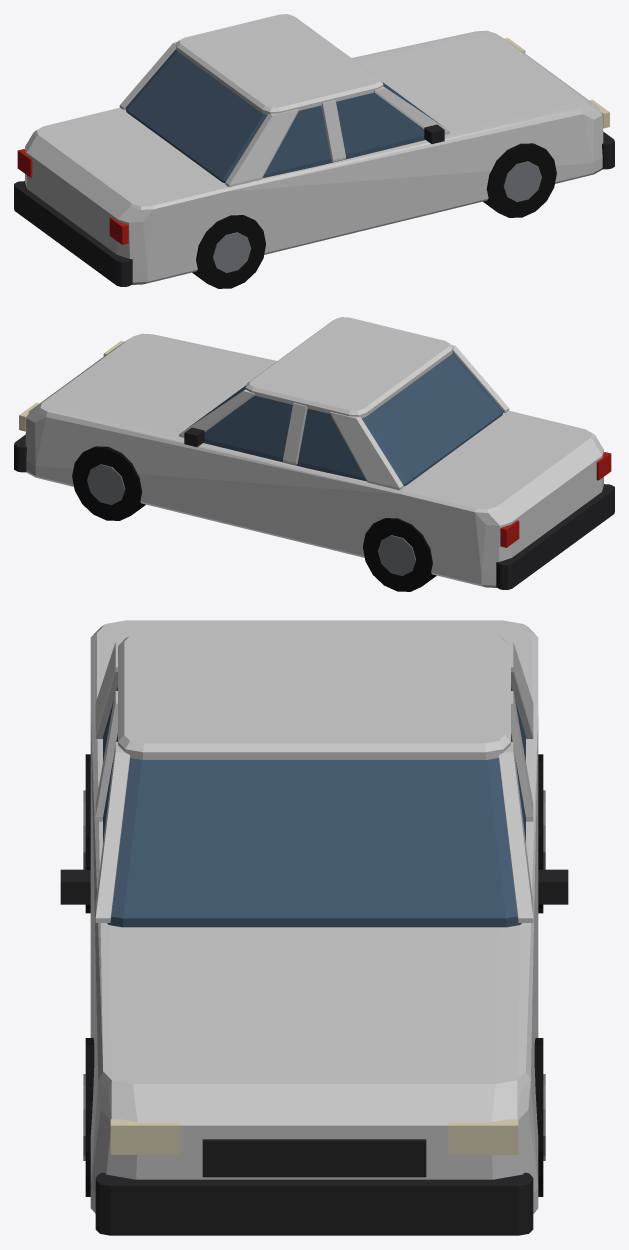
The model's file is car_sedan.obj.
The picture shows the model from 3 angles, top to bottom: view 1: azimuth 30°, elevation 25°; view 2: azimuth 150°, elevation 25°; view 3: azimuth 270°, elevation 25°; orthographic projection. The views are drawn at different scales.
Size of the model in its own units: 4.62 by 1.42 by 2.04.
